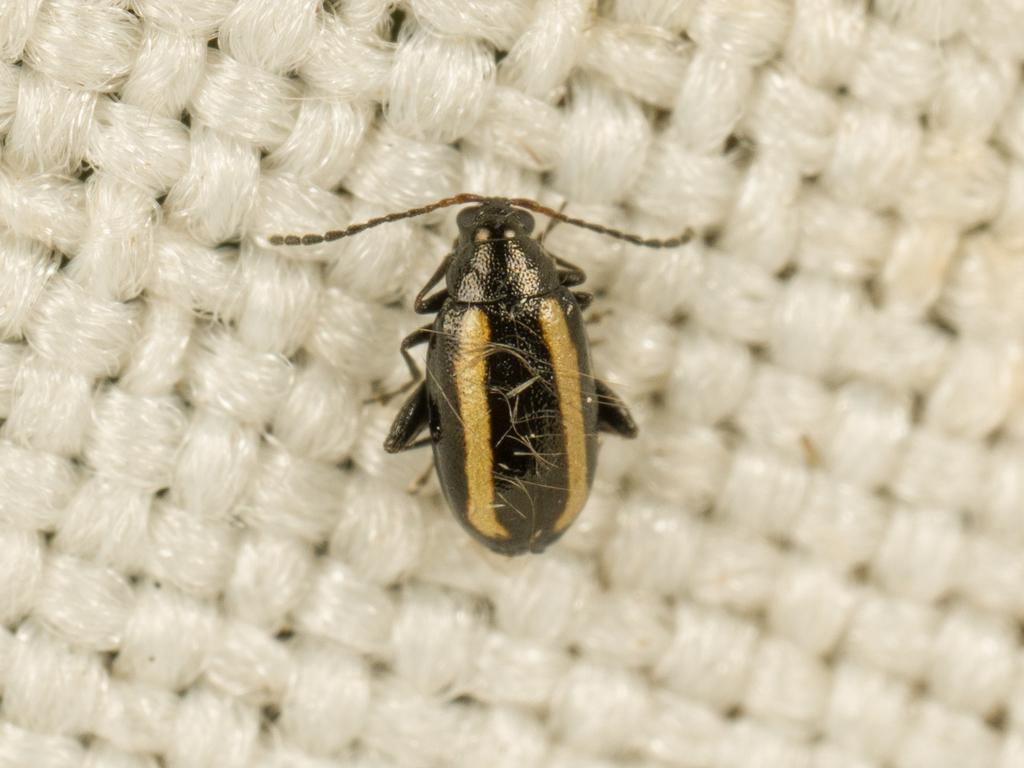flea_beetle: (221, 107, 759, 596)
